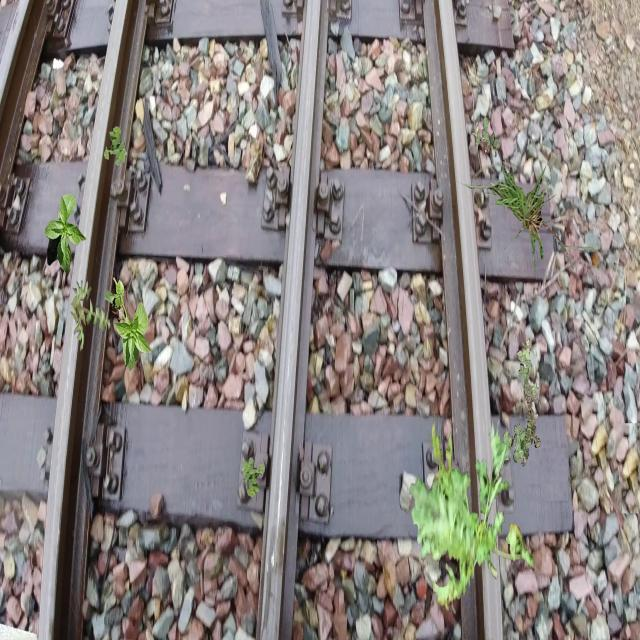Plant: (409, 419, 534, 615), (454, 162, 598, 282), (492, 339, 540, 477), (105, 277, 153, 372), (45, 194, 87, 274), (70, 280, 111, 352), (473, 116, 500, 157), (104, 126, 128, 167), (241, 457, 265, 498)
